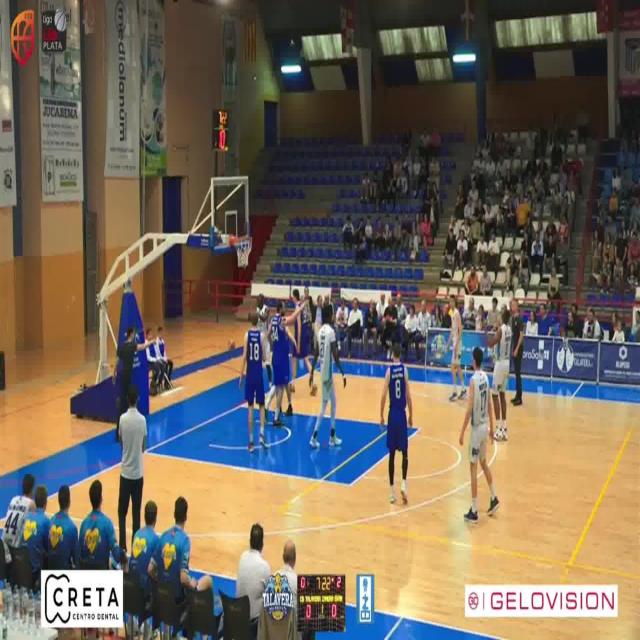ball: (228, 339, 235, 351)
basket: (230, 235, 251, 268)
bench person: (117, 384, 146, 551)
player: (460, 347, 501, 523), (309, 301, 347, 448), (380, 342, 413, 504), (239, 309, 269, 452), (269, 299, 300, 426), (487, 305, 512, 441), (292, 287, 313, 391), (449, 295, 467, 401), (256, 292, 271, 383), (287, 284, 301, 310)
referee: (112, 326, 153, 440), (511, 289, 525, 406)
